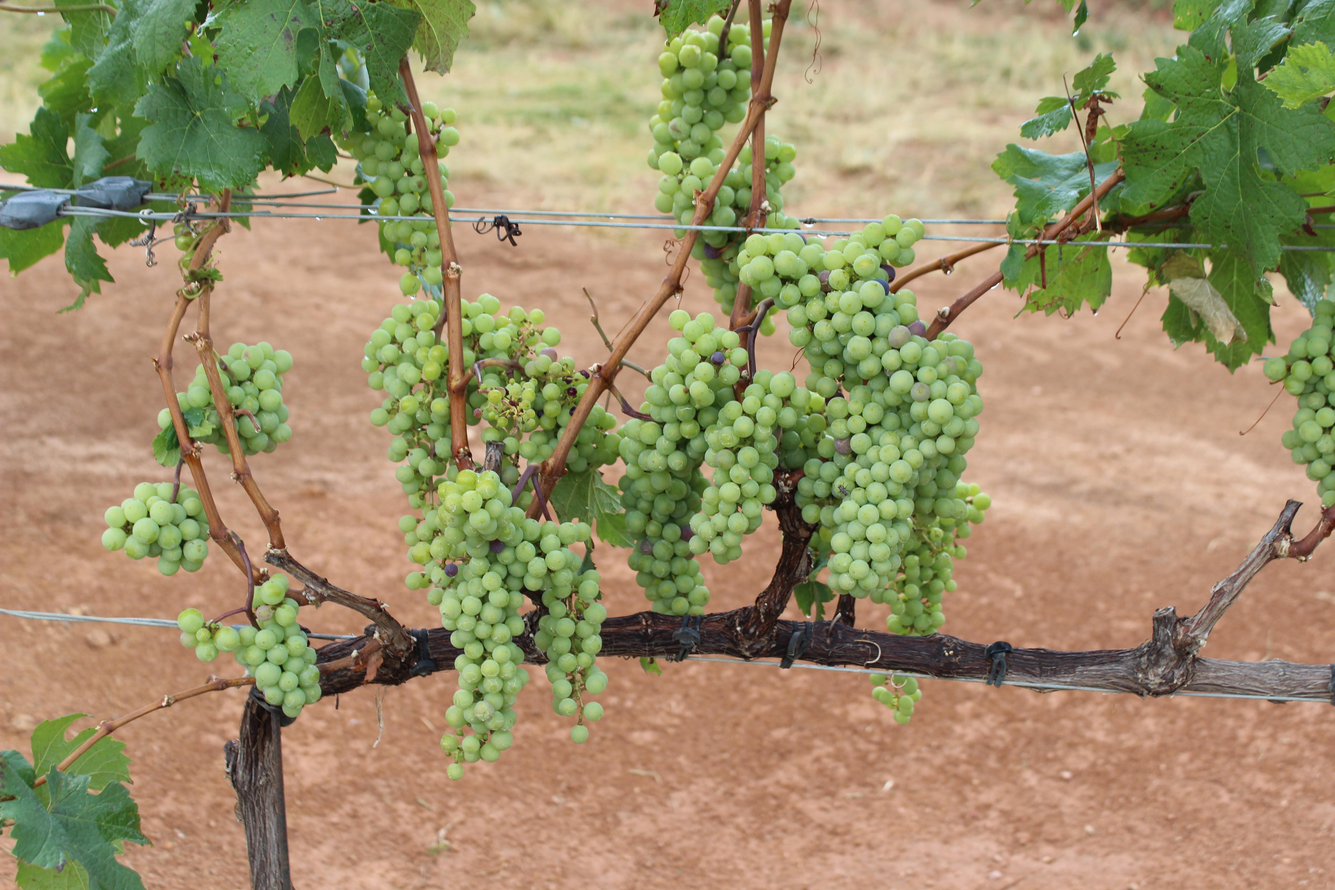leaf: (0, 750, 147, 889), (136, 58, 265, 190), (215, 0, 320, 106), (320, 0, 420, 105), (992, 143, 1090, 225), (391, 0, 475, 73), (0, 107, 72, 188), (130, 0, 197, 74), (1263, 41, 1335, 108), (31, 713, 95, 774), (288, 77, 345, 140), (0, 219, 64, 274), (66, 737, 131, 791), (656, 0, 731, 39), (1021, 97, 1071, 139), (152, 424, 181, 467), (1094, 160, 1118, 182), (326, 83, 332, 95), (120, 12, 129, 14), (303, 133, 304, 137)
